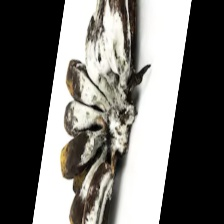banana: (5, 52, 201, 187)
